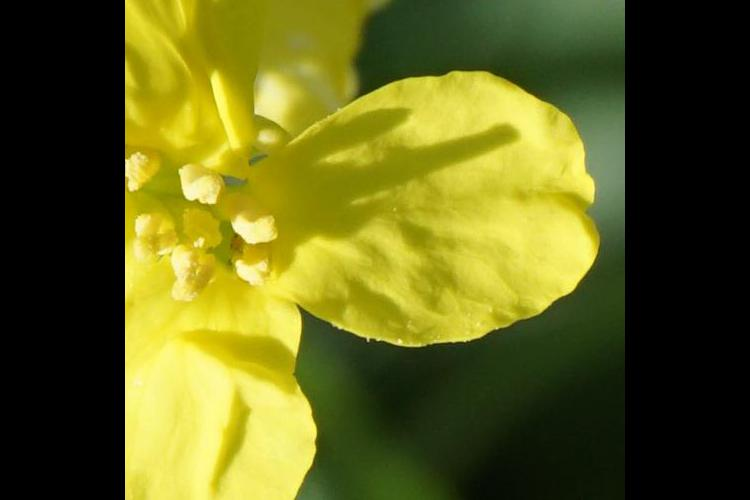yellow: (128, 1, 582, 500)
